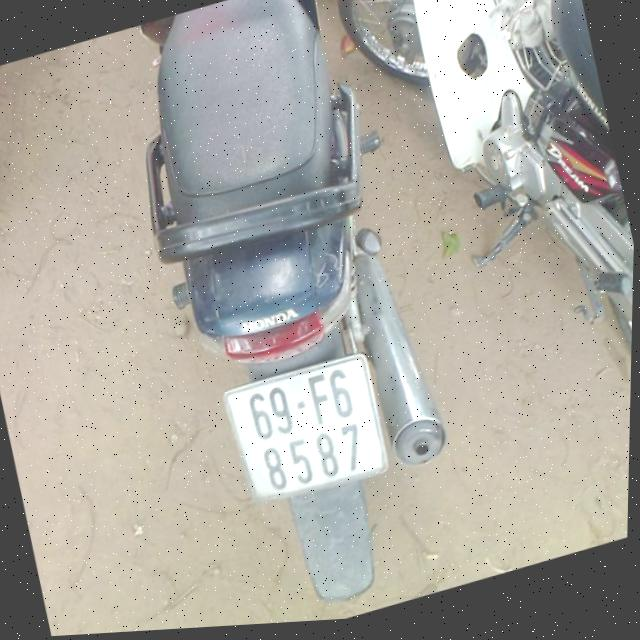motorcycle: (84, 0, 501, 634), (319, 0, 640, 481)
plate: (212, 338, 403, 518)
